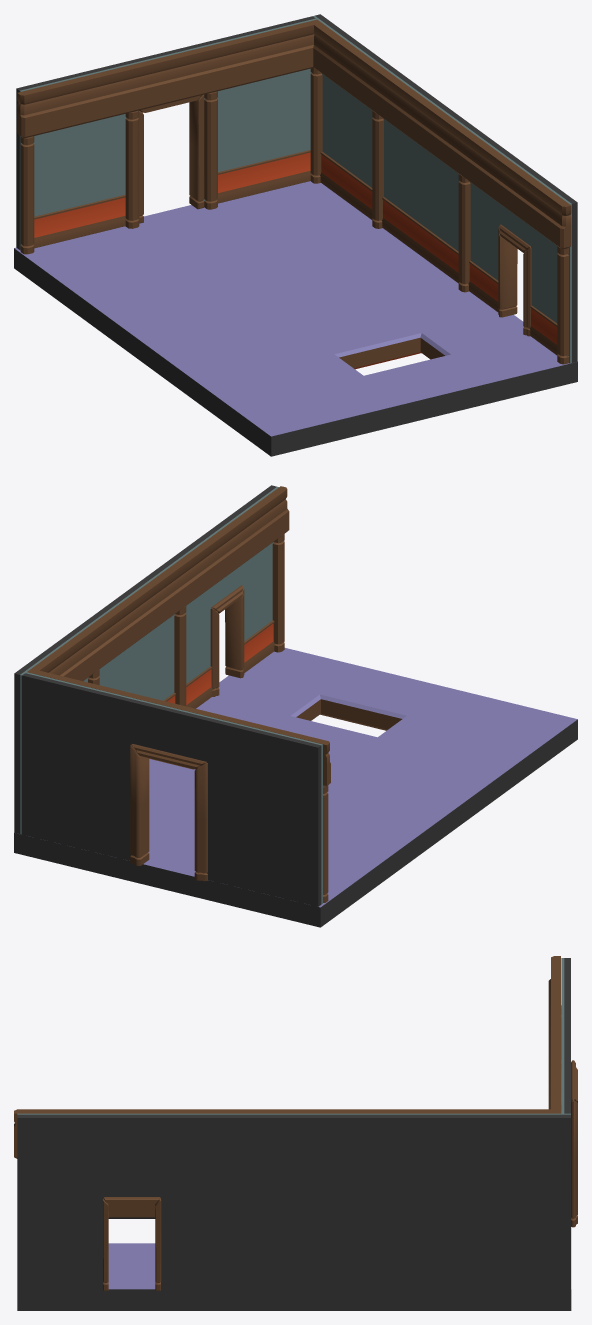
File: ME_SpeakEasy_Room.fbx
The picture shows the model from 3 angles, top to bottom: view 1: azimuth 30°, elevation 25°; view 2: azimuth 150°, elevation 25°; view 3: azimuth 270°, elevation 25°; orthographic projection. The views are drawn at different scales.
Visible parts, largest first — view 1: ME_SpeakEasy_Room; view 2: ME_SpeakEasy_Room; view 3: ME_SpeakEasy_Room.
Part boxes in pixels (<box>): ME_SpeakEasy_Room: <box>14,14,577,456</box>; ME_SpeakEasy_Room: <box>14,485,577,927</box>; ME_SpeakEasy_Room: <box>14,956,577,1310</box>.
Bounding box in the file's own units: 102621 × 56334 × 149143.
